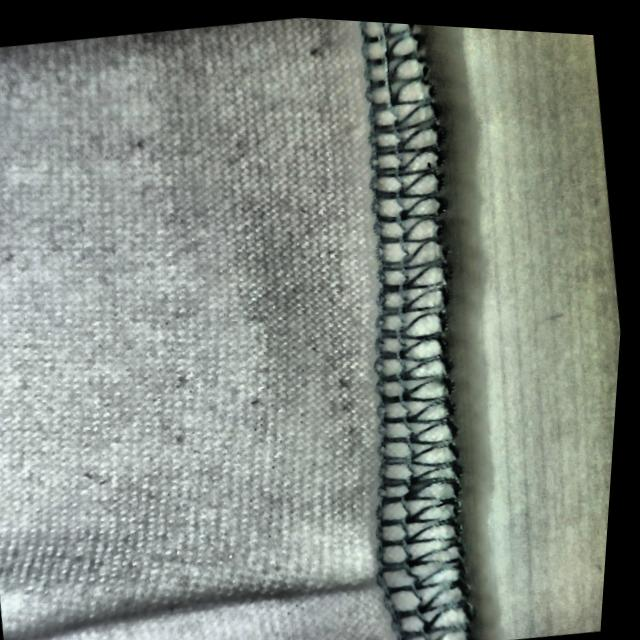seam: (157, 485, 490, 640)
